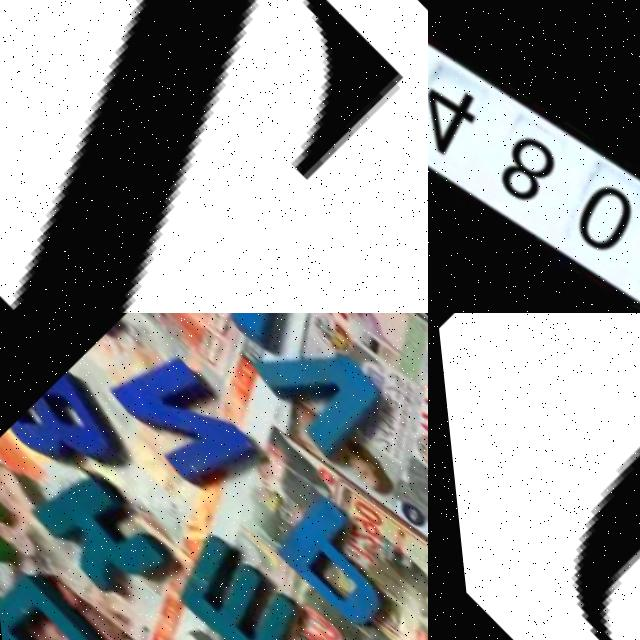0: (526, 147, 640, 278)
3: (609, 202, 640, 313)
4: (428, 46, 508, 185)
8: (452, 102, 581, 229)
D: (0, 566, 106, 640)
H: (108, 603, 279, 640)
J: (179, 313, 331, 357)
K: (11, 451, 186, 624)
M: (158, 528, 310, 640)
N: (96, 332, 273, 507)
P: (257, 483, 413, 637)
V: (242, 313, 404, 469)
Z: (0, 0, 428, 313)
